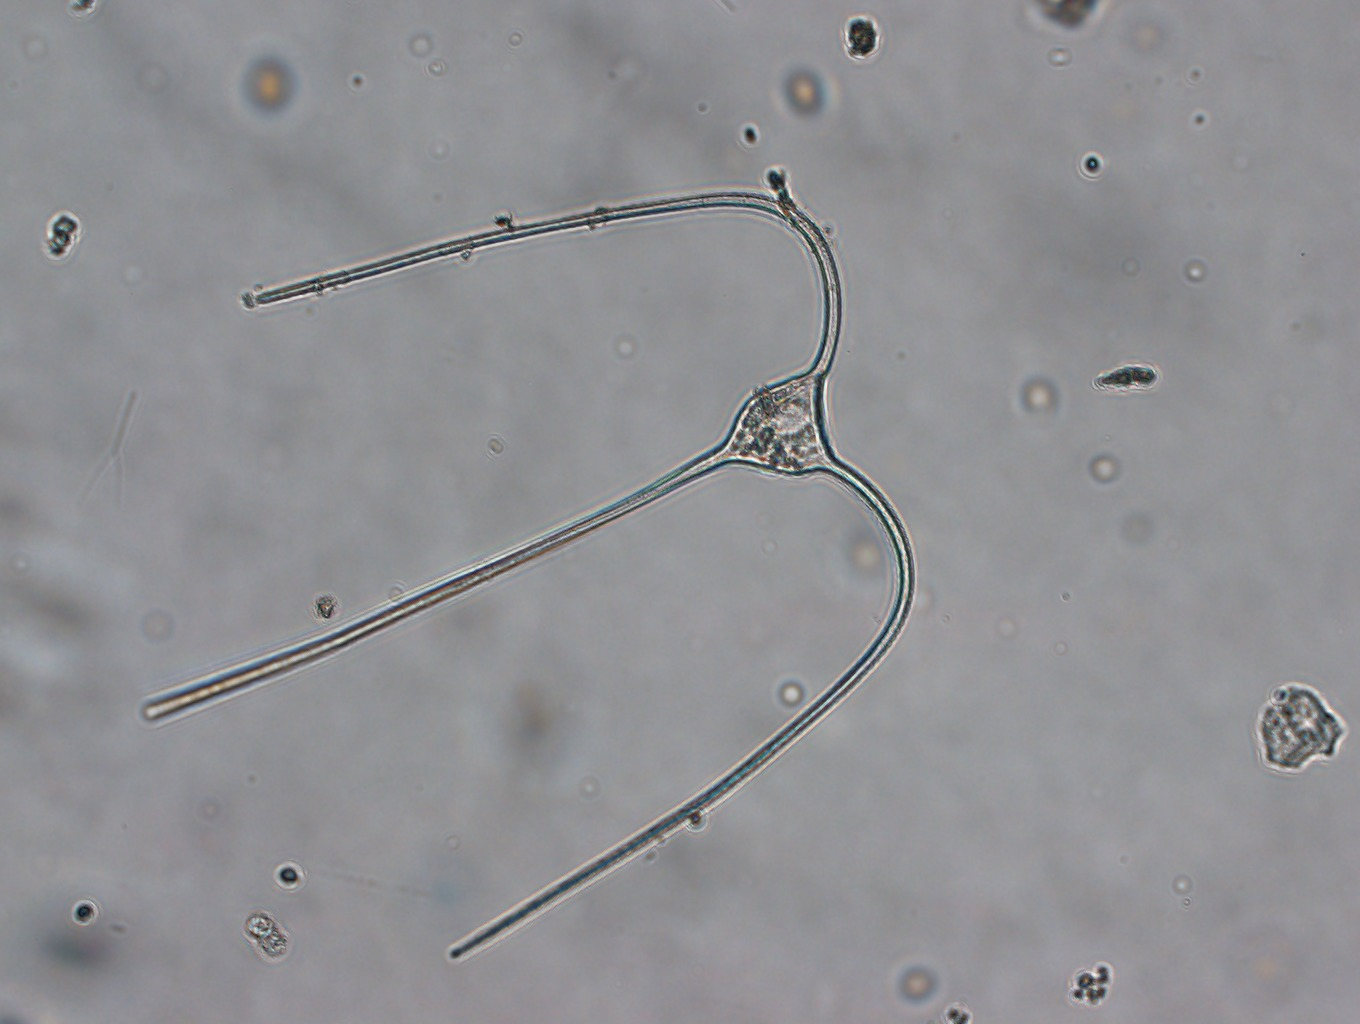ceratium trichoceros: (127, 177, 924, 966)
